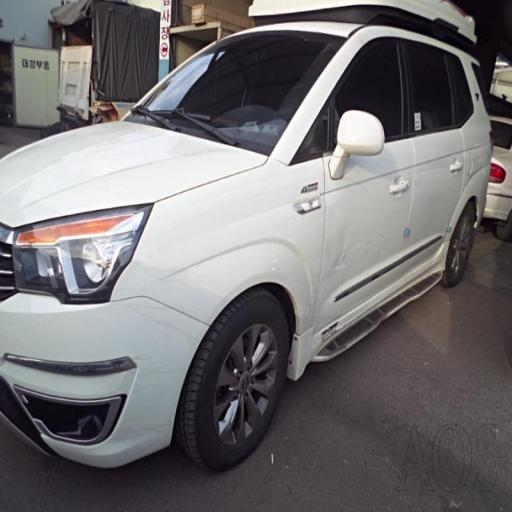scratch: (305, 215, 393, 308)
